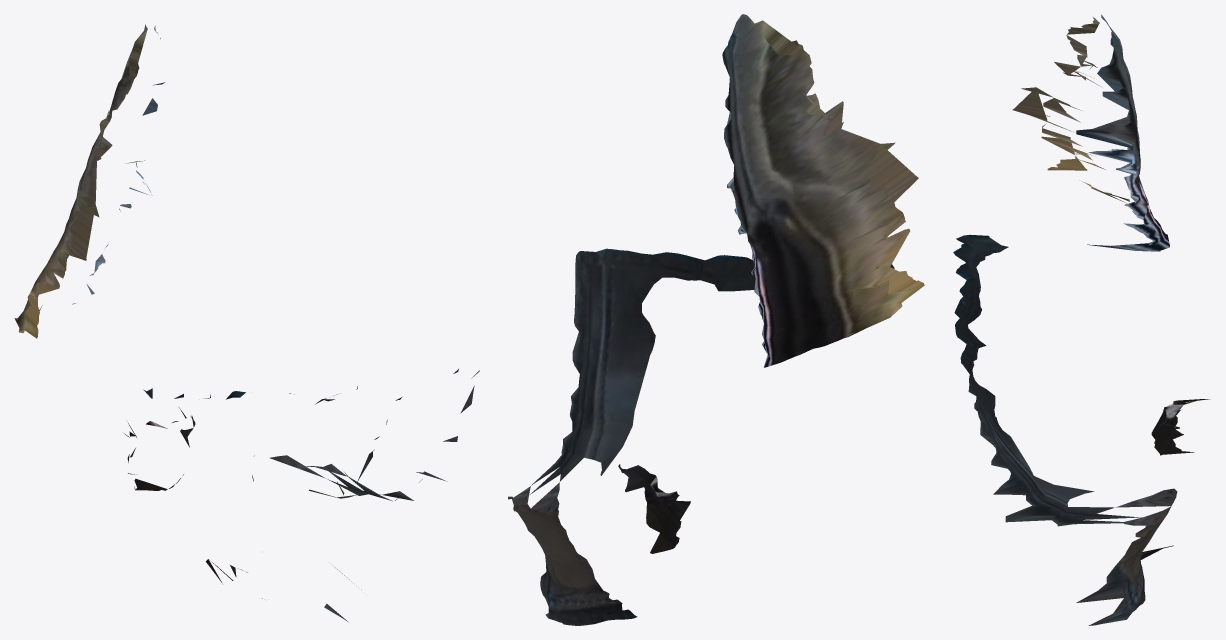
Rendered from observed-surface.glb.
3 views of the same model, side by side, from view 1: azimuth 30°, elevation 25°; view 2: azimuth 150°, elevation 25°; view 3: azimuth 270°, elevation 25° (orthographic). The views are drawn at different scales.
Visible parts, largest first — view 1: geometry_0; view 2: geometry_0; view 3: geometry_0.
Boxes of the visible parts, box(x1,y1,x2,y2) form: geometry_0: box(14, 24, 479, 621); geometry_0: box(508, 14, 924, 625); geometry_0: box(953, 14, 1209, 625).
Bounding box in the file's own units: 0.4343 × 0.6797 × 0.2985.
Materials: 1 (1 with a texture image).
